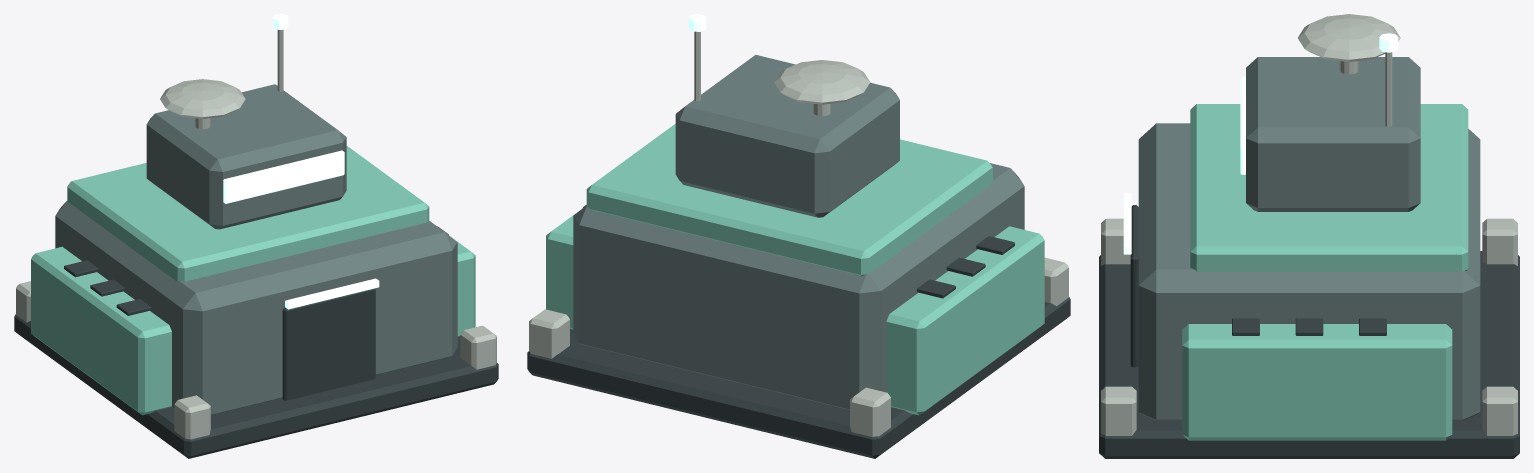
The picture shows the model from 3 angles, left to right: view 1: azimuth 30°, elevation 25°; view 2: azimuth 150°, elevation 25°; view 3: azimuth 270°, elevation 25°; orthographic projection. The views are drawn at different scales.
Visible parts, largest first — view 1: Core, Roof, Command_deck, Side_module, Foundation, Door, Command_windows, Satellite, Side_module.001, Corner_armor, Corner_armor.002, Door_light (+1 smaller); view 2: Core, Roof, Command_deck, Side_module, Foundation, Satellite, Side_module.001, Corner_armor.001, Corner_armor.003, Corner_armor; view 3: Core, Side_module.001, Roof, Command_deck, Foundation, Satellite, Corner_armor.002, Corner_armor.003, Corner_armor.001, Door, Corner_armor, Beacon_pole (+5 smaller).
Part boxes in pixels (x1,y1,x2,y2): Core: (55, 201, 457, 415); Roof: (67, 146, 429, 281); Command_deck: (146, 84, 346, 229); Side_module: (31, 246, 171, 415); Foundation: (14, 314, 498, 458); Door: (282, 288, 375, 400); Command_windows: (223, 150, 344, 203); Satellite: (160, 79, 245, 118); Side_module.001: (453, 238, 475, 336); Corner_armor: (174, 395, 210, 439); Corner_armor.002: (460, 325, 496, 369); Door_light: (285, 278, 379, 309); Core: (573, 163, 1024, 409); Roof: (586, 124, 992, 275); Command_deck: (675, 55, 899, 217); Side_module: (886, 226, 1044, 415); Foundation: (527, 297, 1070, 458); Satellite: (774, 60, 870, 104); Side_module.001: (546, 210, 579, 329); Corner_armor.001: (850, 387, 890, 436); Corner_armor.003: (529, 309, 569, 358); Corner_armor: (1044, 257, 1068, 306); Core: (1138, 123, 1480, 420); Side_module.001: (1182, 324, 1452, 440); Roof: (1190, 104, 1468, 271); Command_deck: (1246, 57, 1420, 211); Foundation: (1099, 251, 1519, 458); Satellite: (1298, 14, 1400, 61); Corner_armor.002: (1101, 386, 1136, 435); Corner_armor.003: (1482, 386, 1517, 435); Corner_armor.001: (1482, 218, 1517, 265); Door: (1130, 205, 1138, 367); Corner_armor: (1101, 218, 1130, 265); Beacon_pole: (1385, 52, 1392, 126).
Size of the model in its own units: 5.9 by 5.08 by 5.3.
